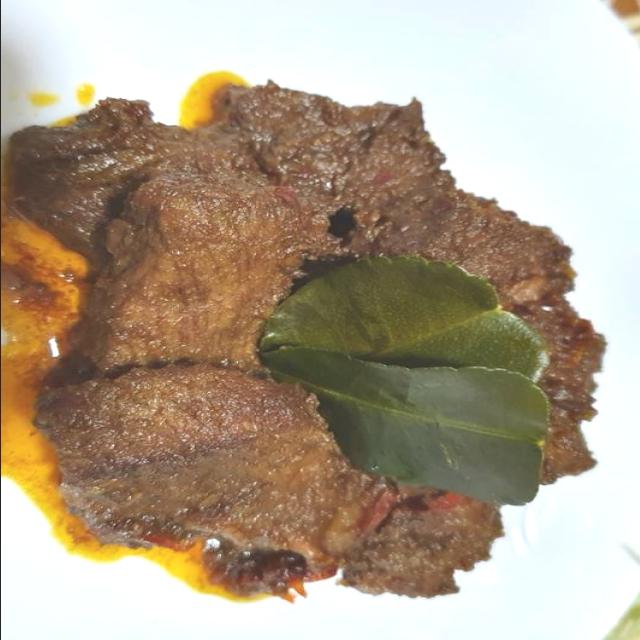rendang: (0, 66, 608, 605)
